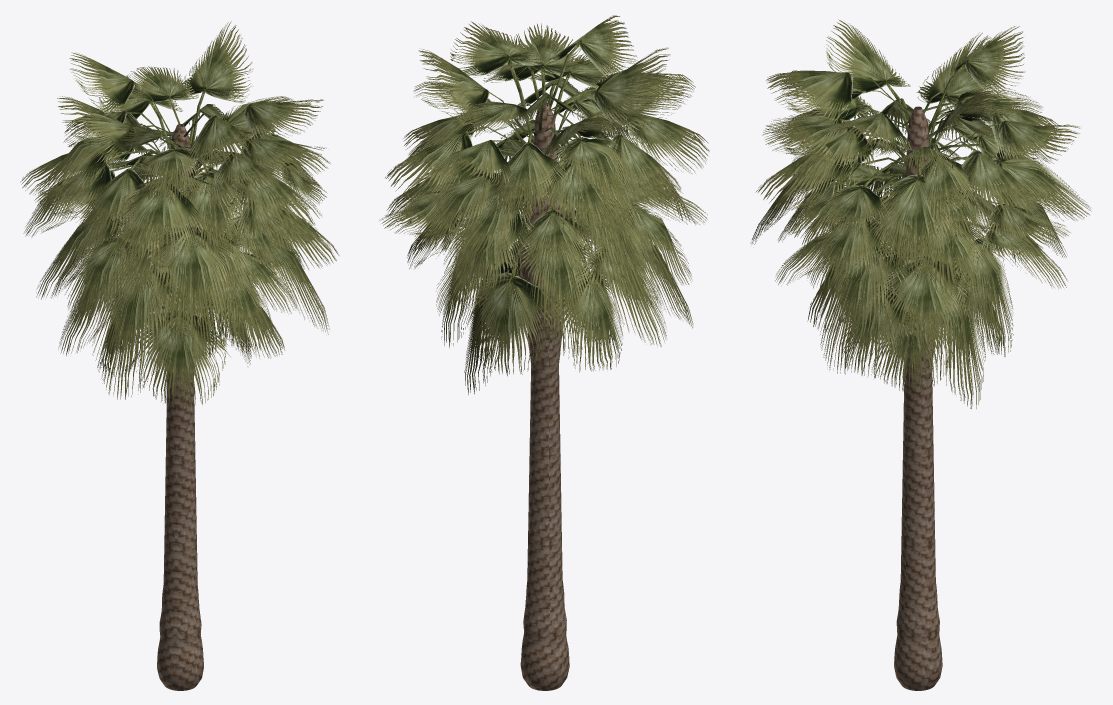
Rendered from palm.glb.
3 views of the same model, side by side, from view 1: azimuth 30°, elevation 25°; view 2: azimuth 150°, elevation 25°; view 3: azimuth 270°, elevation 25° (orthographic). The views are drawn at different scales.
Parts seen in each view (by area): view 1: PalmBark; view 2: PalmBark; view 3: PalmBark.
Part boxes in pixels (x1,y1,x2,y2): PalmBark: (20, 21, 339, 690); PalmBark: (379, 15, 709, 690); PalmBark: (750, 19, 1091, 690).
Size of the model in its own units: 19.06 by 41.01 by 20.54.
Materials: 2 (2 with a texture image).
